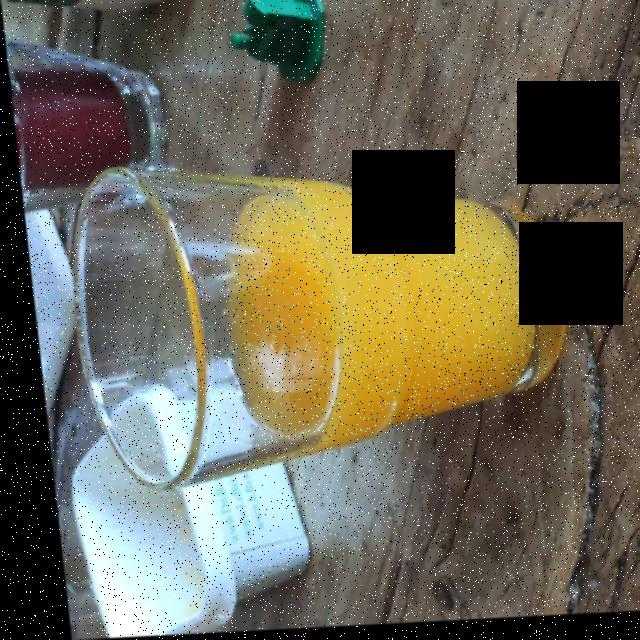juice-orange: (217, 181, 536, 450)
